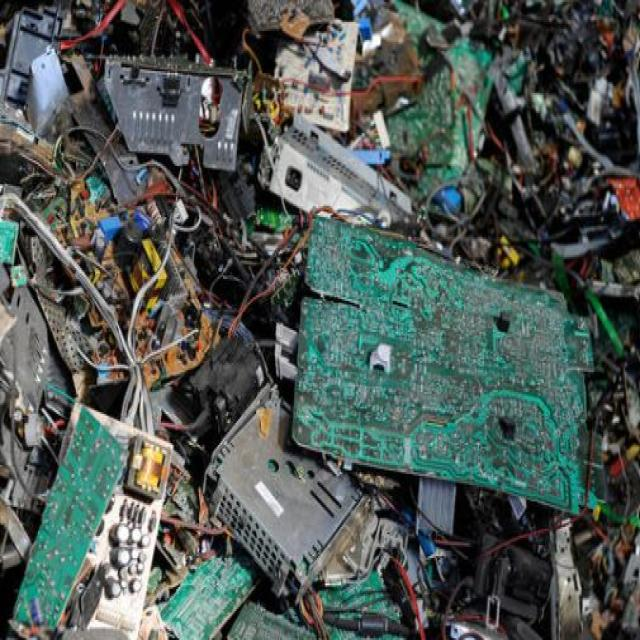electronic: (278, 184, 610, 561)
